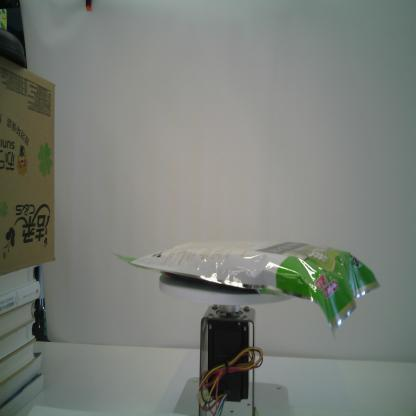Dried Food: (108, 237, 382, 349)
